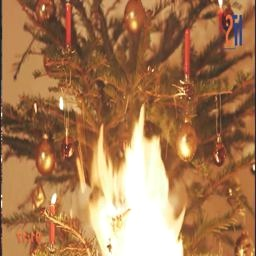fire: (75, 106, 183, 256)
